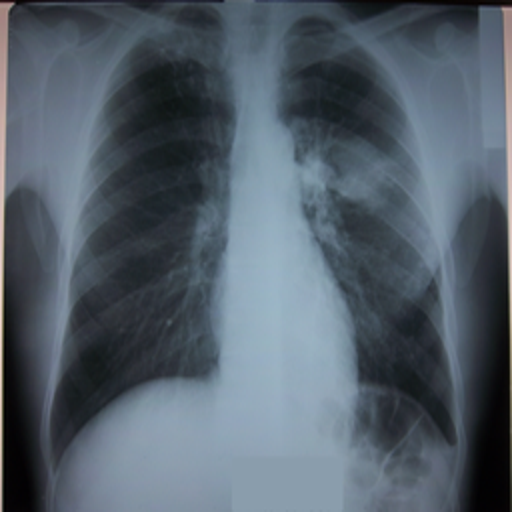TB: (308, 125, 398, 207)
